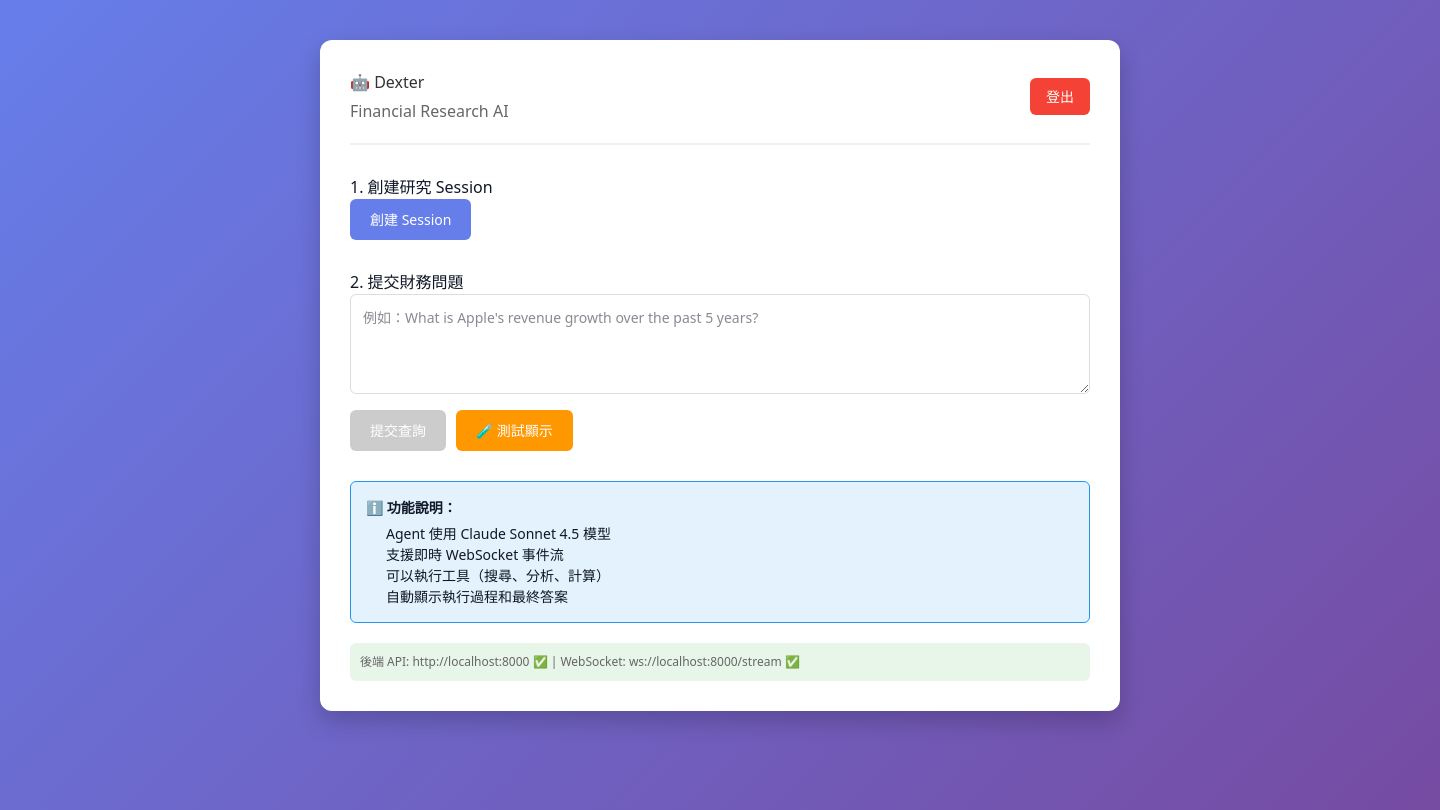
it: query submission and live results › polls for the answer even after an earlier event when the final event is missed
The width and height of the screenshot is (1440, 810).
Click the button "創建 Session".
click(411, 220)  # box [350, 199, 471, 240]
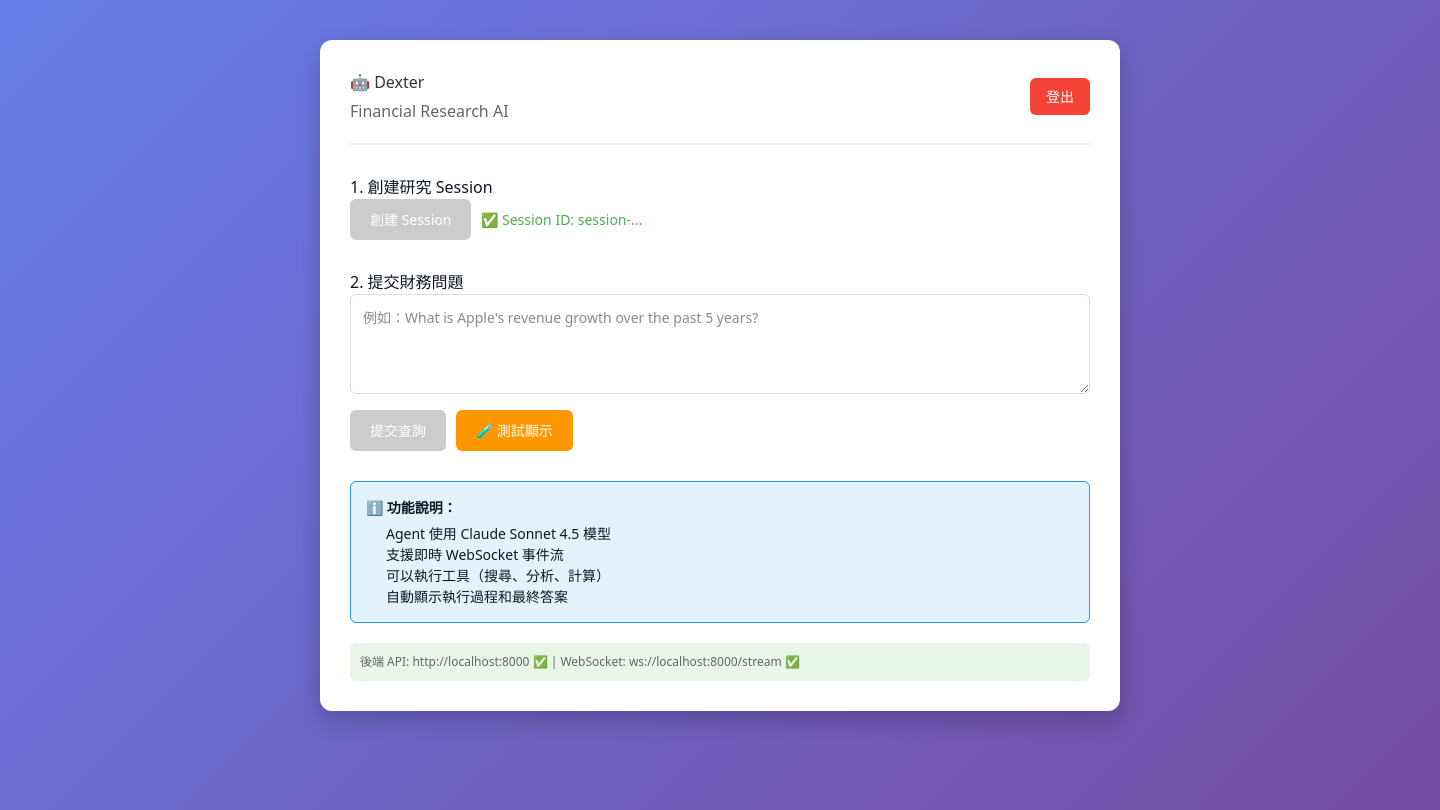
Type "Summarize revenue" into the text box.
click(720, 344); type("Summarize revenue")  # box [350, 294, 1090, 394]
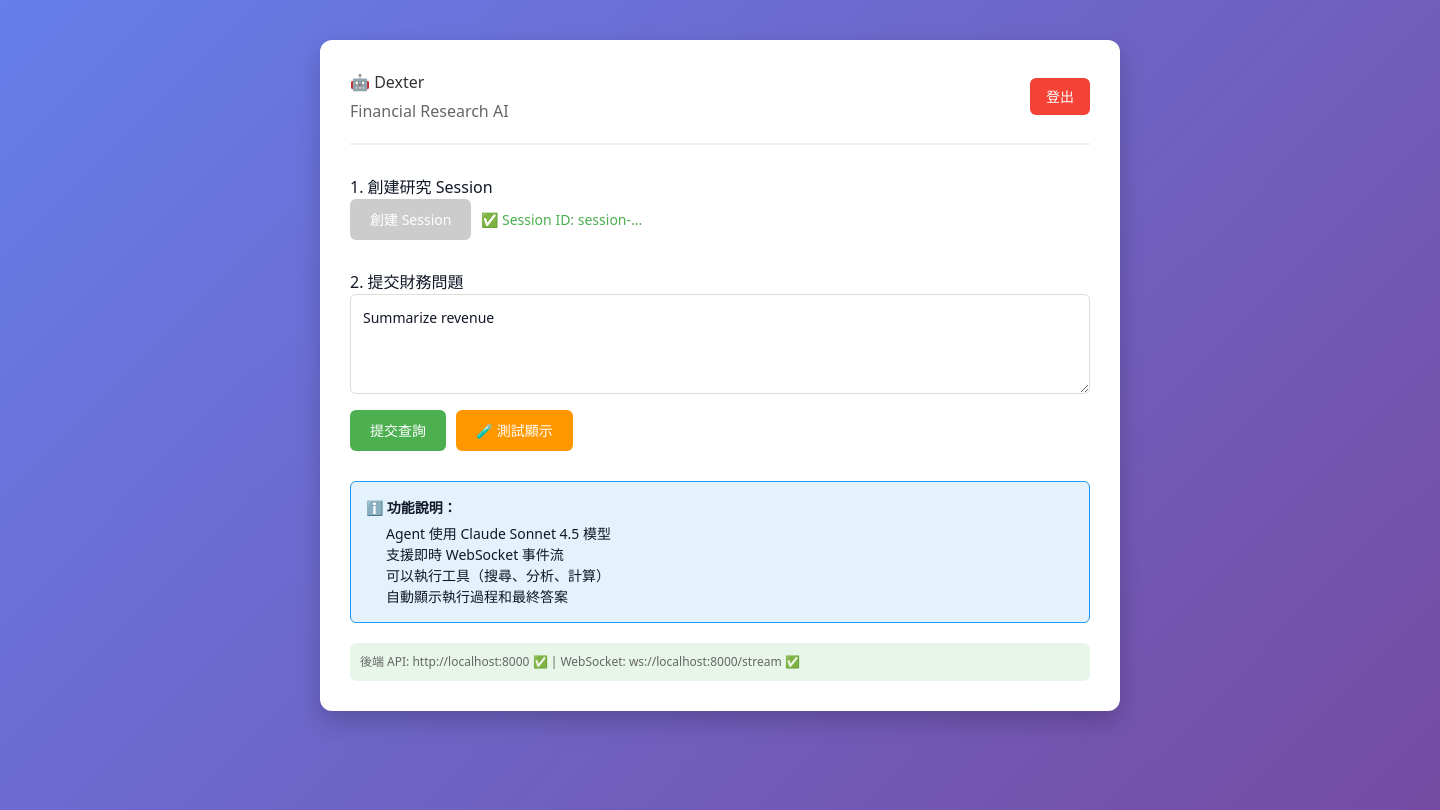
Click the button "提交查詢".
click(398, 430)  # box [350, 410, 446, 451]
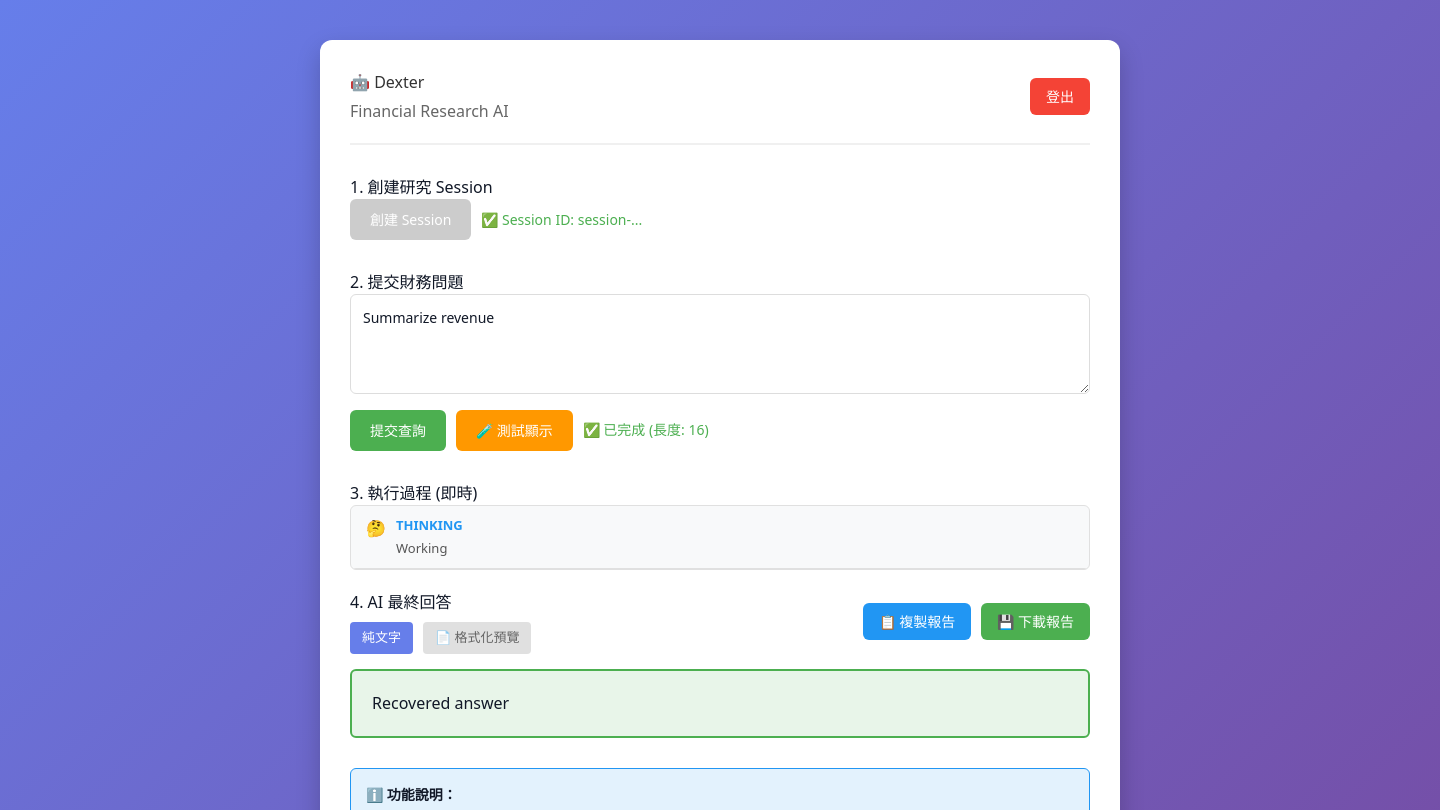
expect the button "提交查詢" is enabled: met, box [350, 410, 446, 451]
expect the text "Recovered answer" is shown: met, box [372, 692, 509, 714]
